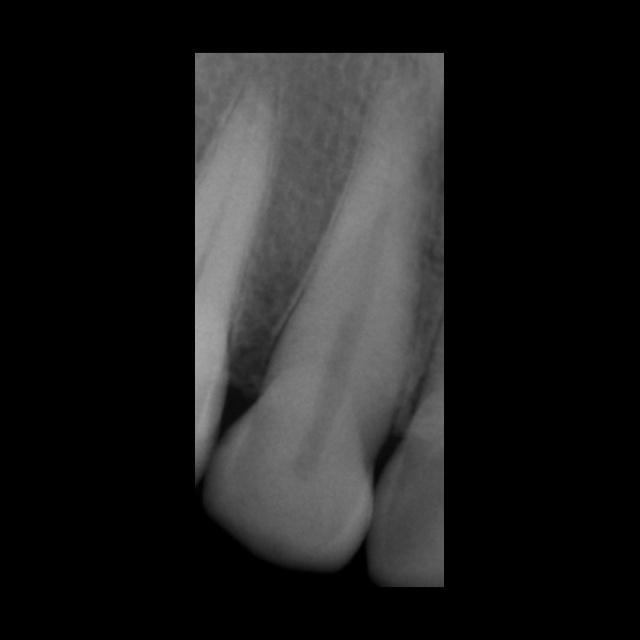tooth: (203, 70, 424, 572)
